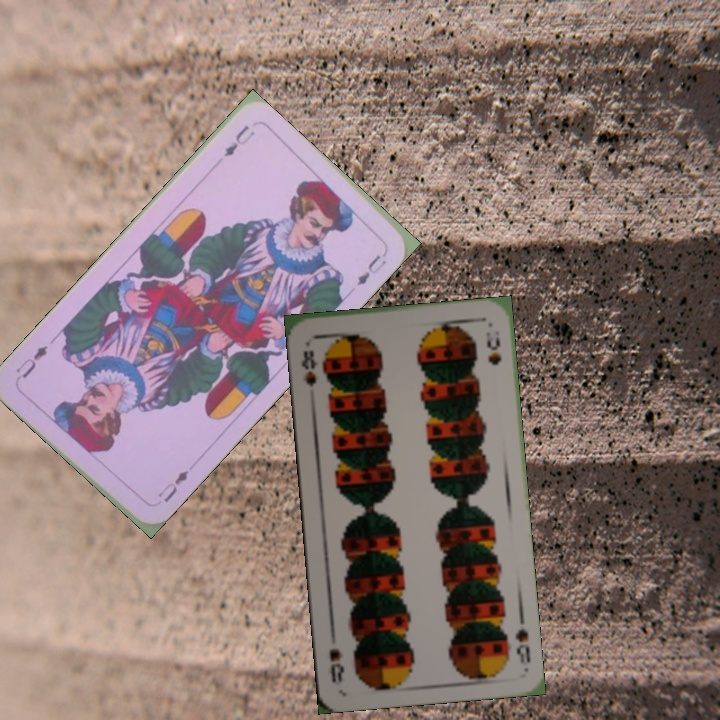EU: (219, 120, 258, 160), (153, 466, 191, 505)
S8: (297, 346, 320, 389), (511, 624, 533, 666)
